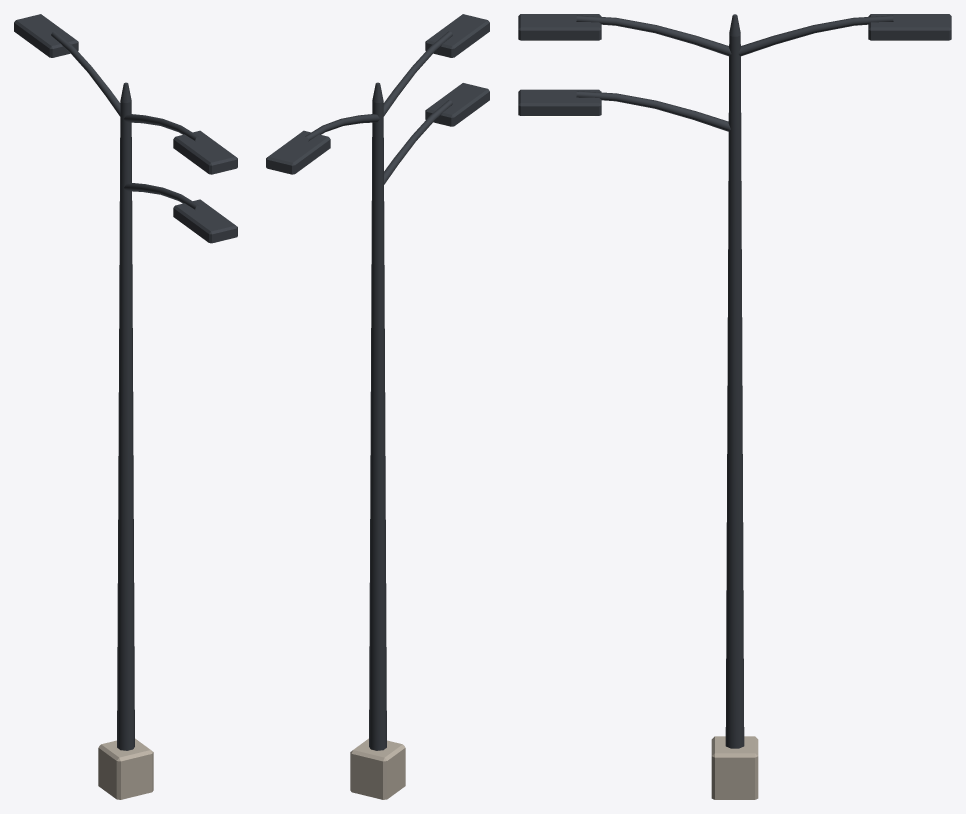
Rendered from streetlight.glb.
3 renders of one model, left to right at view 1: azimuth 30°, elevation 25°; view 2: azimuth 150°, elevation 25°; view 3: azimuth 270°, elevation 25°, orthographic. The views are drawn at different scales.
Visible parts, largest first — view 1: streetlight_v1, streetlight_v0; view 2: streetlight_v1, streetlight_v0; view 3: streetlight_v1, streetlight_v0.
Boxes of the visible parts, x1,y1,x2,y2 form: streetlight_v1: [14, 14, 237, 750]; streetlight_v0: [98, 182, 237, 799]; streetlight_v1: [266, 14, 489, 750]; streetlight_v0: [350, 83, 489, 799]; streetlight_v1: [518, 14, 951, 748]; streetlight_v0: [518, 89, 758, 799].
Bounding box in the file's own units: 0.56 × 10.25 × 5.2.
